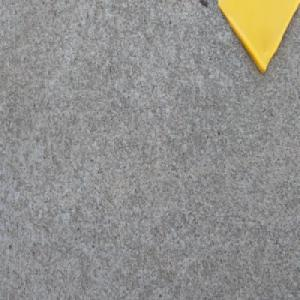PlasticPart: (215, 0, 300, 75)
